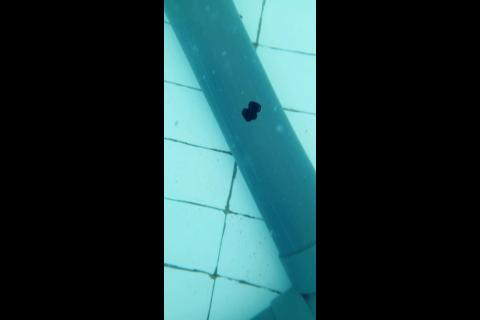kebocoran: (240, 99, 261, 123)
